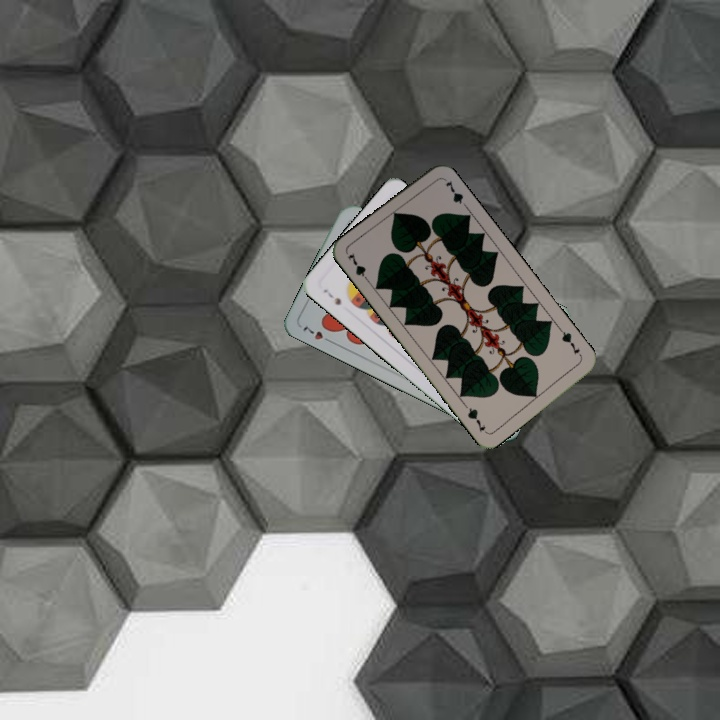G7: (343, 248, 373, 286), (556, 325, 585, 360)
H7: (299, 321, 335, 346)
S7: (319, 285, 344, 308)
